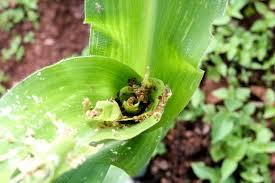fallarmy_worm: (127, 79, 150, 102)
